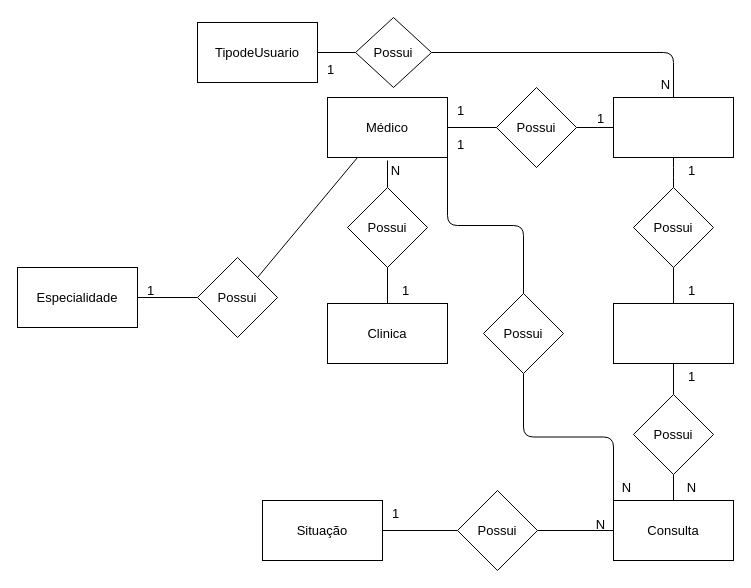
Image size: 751x588. Some labels were removed from this diagram. Each missing label, with the centre of its shape:
"Paciente" goes at (673,333).
"Usuario" goes at (673,127).
